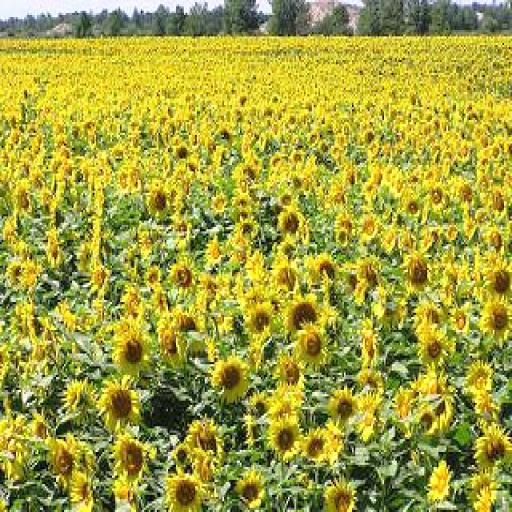sunflower: (264, 411, 304, 463), (270, 349, 306, 403), (475, 424, 512, 474), (211, 356, 251, 402), (109, 435, 147, 482), (112, 326, 147, 377), (165, 469, 206, 510), (99, 375, 138, 418), (292, 326, 330, 368), (155, 315, 186, 366), (478, 296, 512, 342), (234, 465, 267, 512), (323, 384, 357, 428), (414, 328, 450, 368), (285, 294, 318, 336), (323, 471, 355, 512), (483, 257, 512, 302), (170, 253, 198, 298), (272, 203, 306, 240), (245, 300, 275, 341), (400, 253, 432, 289), (301, 428, 333, 463), (464, 360, 494, 396), (70, 467, 93, 512), (144, 182, 168, 216)
